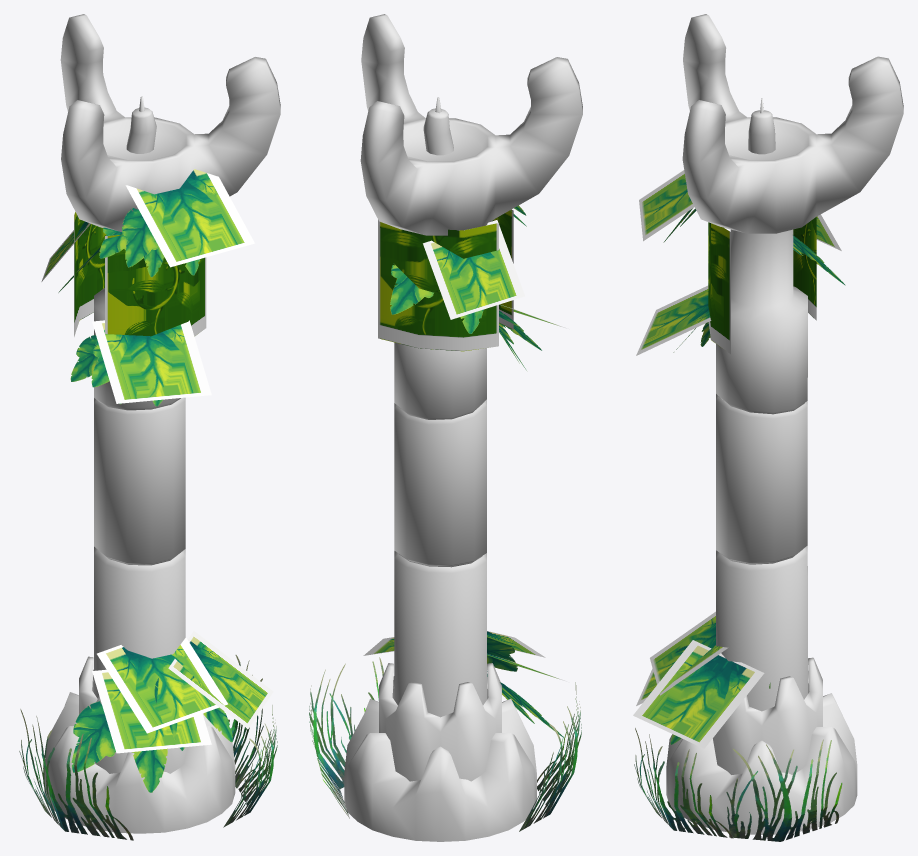
Rendered from SM_PillarTorch.fbx.
3 views of the same model, side by side, from view 1: azimuth 30°, elevation 25°; view 2: azimuth 150°, elevation 25°; view 3: azimuth 270°, elevation 25° (orthographic).
Parts seen in each view (by area): view 1: PillarTorchMesh; view 2: PillarTorchMesh; view 3: PillarTorchMesh.
Boxes of the visible parts, x1,y1,x2,y2 form: PillarTorchMesh: (19, 14, 280, 840); PillarTorchMesh: (309, 14, 582, 841); PillarTorchMesh: (633, 14, 903, 841).
Size of the model in its own units: 192 by 586 by 204.
